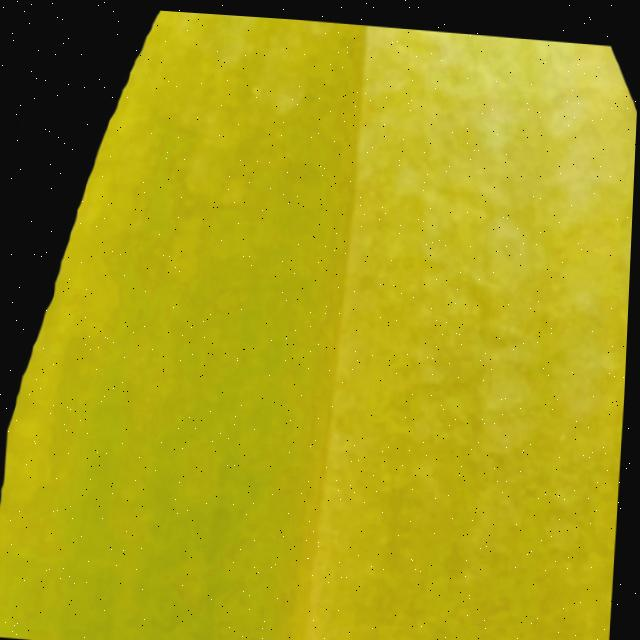mite: (321, 19, 640, 640), (247, 64, 314, 117)
spots: (0, 1, 640, 640)
